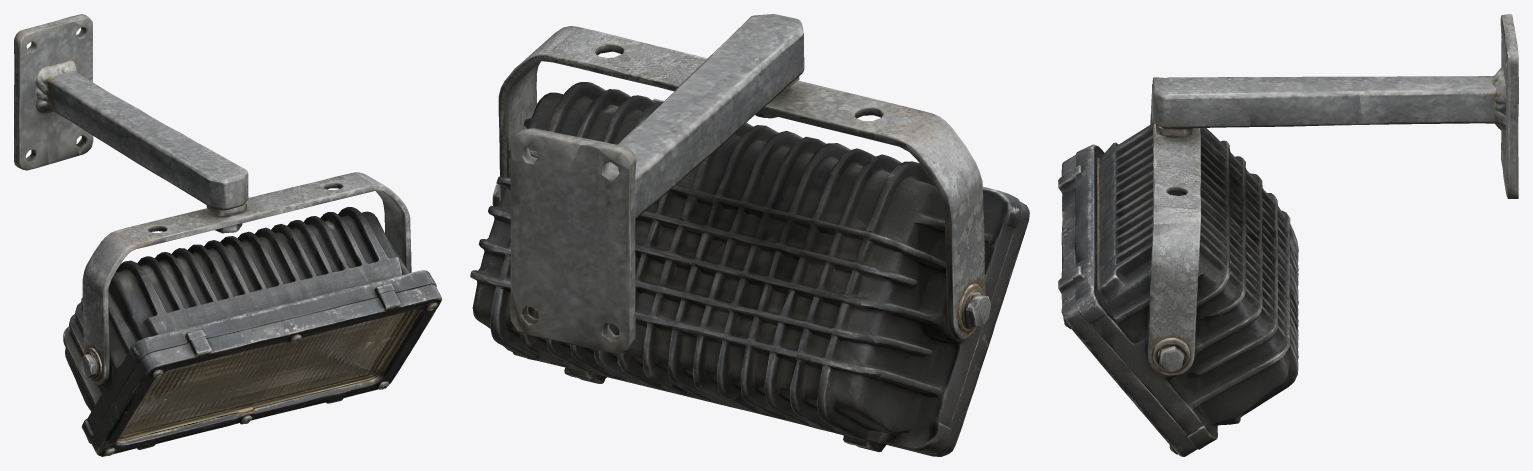
Rendered from wall-lamp.glb.
The picture shows the model from 3 angles, left to right: view 1: azimuth 30°, elevation 25°; view 2: azimuth 150°, elevation 25°; view 3: azimuth 270°, elevation 25°; orthographic projection. The views are drawn at different scales.
Parts seen in each view (by area): view 1: wall-lamp; view 2: wall-lamp; view 3: wall-lamp.
Boxes of the visible parts, left/top/right/bottom form: wall-lamp: left=14, top=14, right=441, bottom=456; wall-lamp: left=470, top=14, right=1029, bottom=456; wall-lamp: left=1058, top=14, right=1518, bottom=456.
Bounding box in the file's own units: 0.6 × 0.534 × 0.6674.
1 material, 1 textured.
